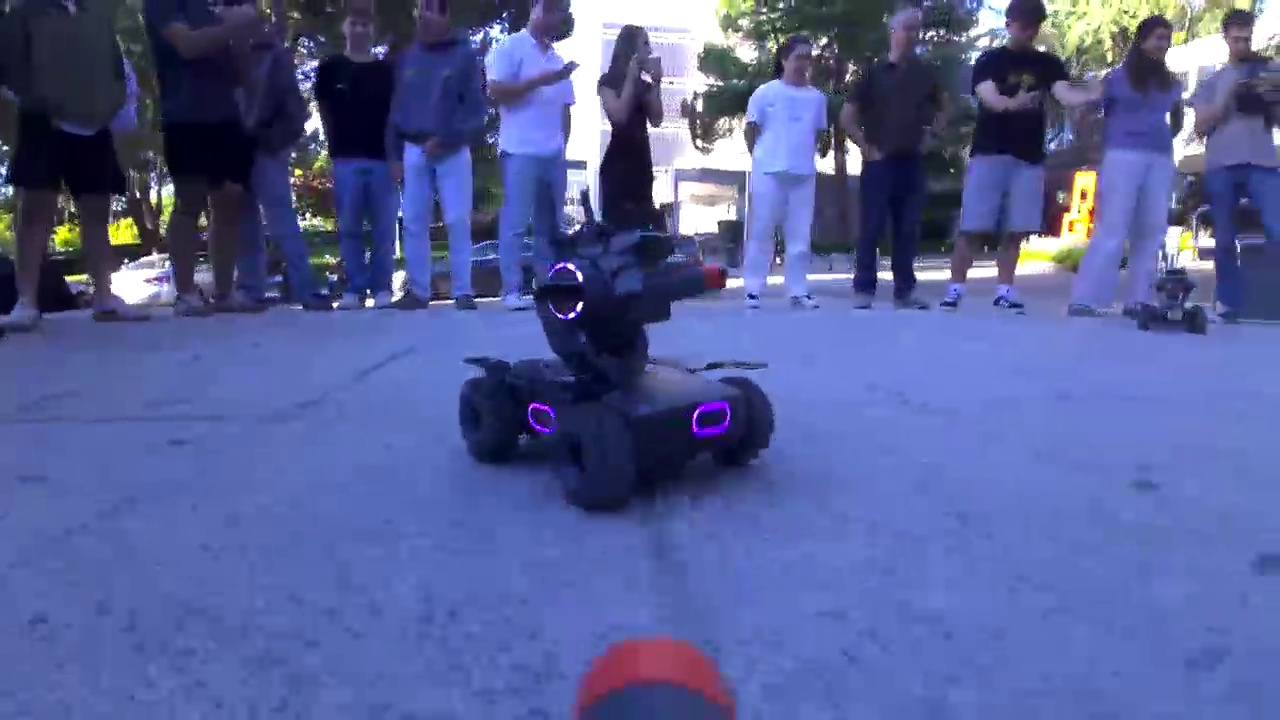robot: (399, 208, 788, 517), (1128, 258, 1212, 332)
